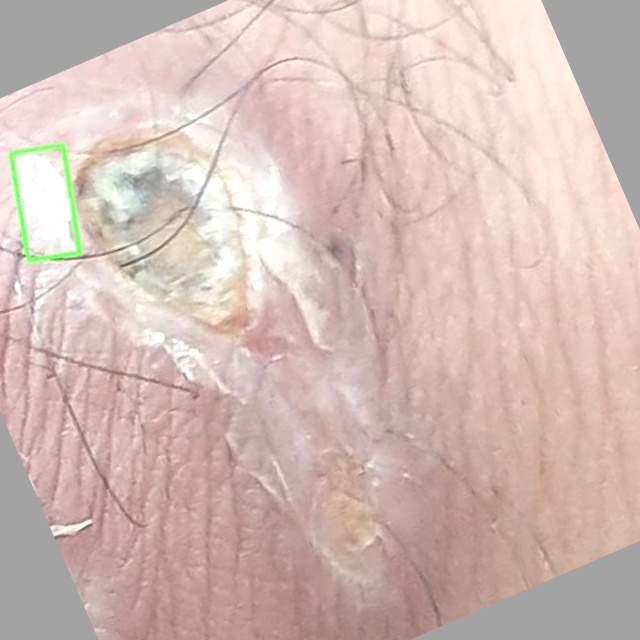Contact Dermatitis: (10, 145, 80, 261)
